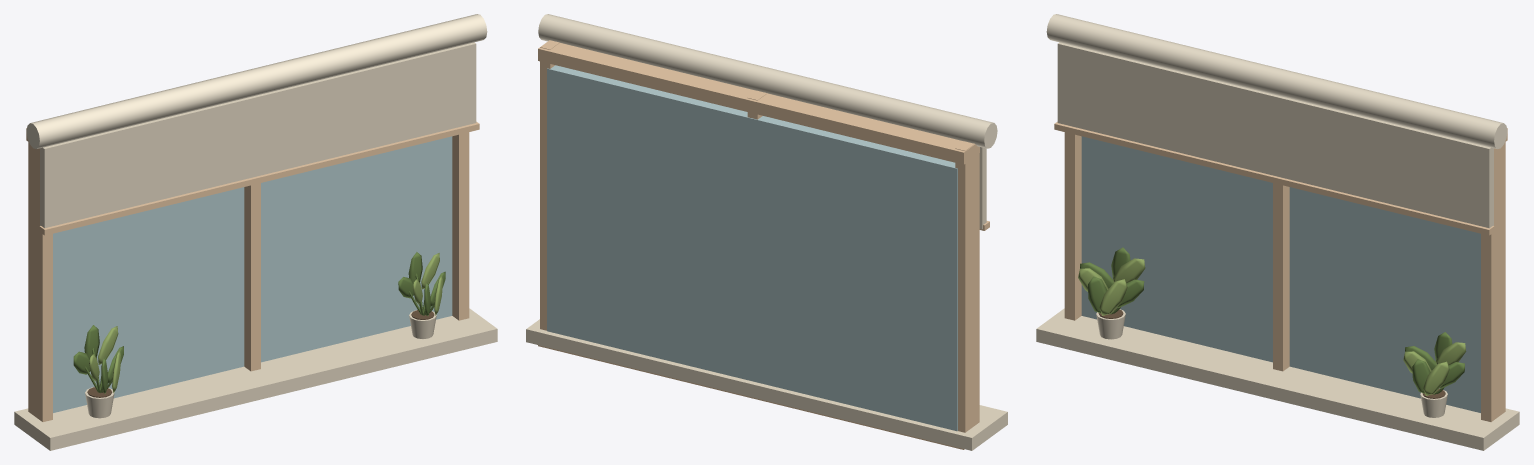
File: study_ref_window.glb
3 views of the same model, side by side, from view 1: azimuth 30°, elevation 25°; view 2: azimuth 150°, elevation 25°; view 3: azimuth 330°, elevation 25° (orthographic).
Bounding box in the file's own units: 2.88 × 1.96 × 0.403.
